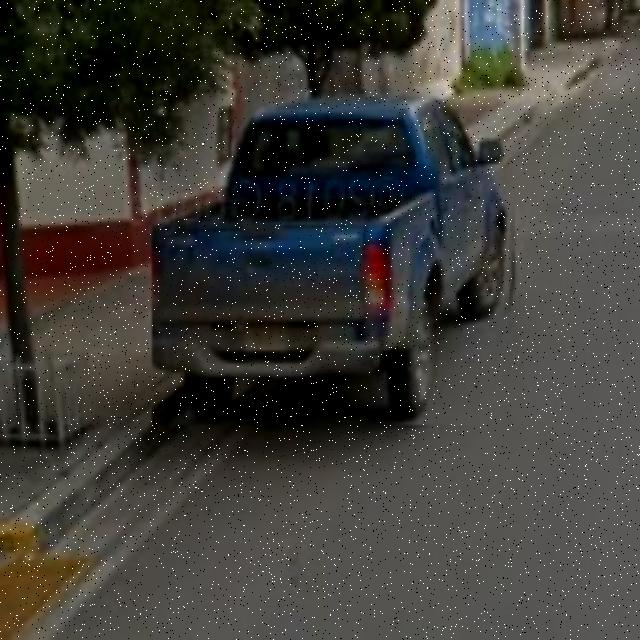car: (152, 90, 524, 426)
